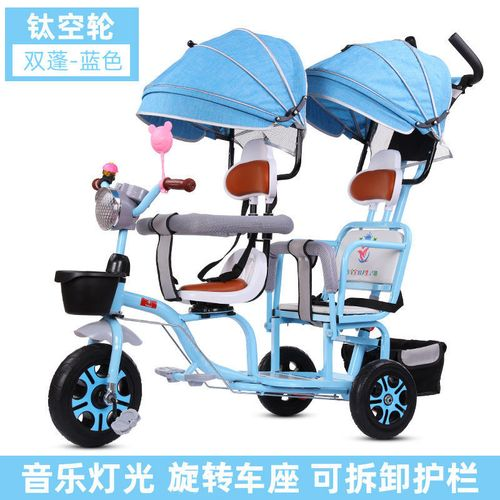empty: (23, 7, 500, 451)
